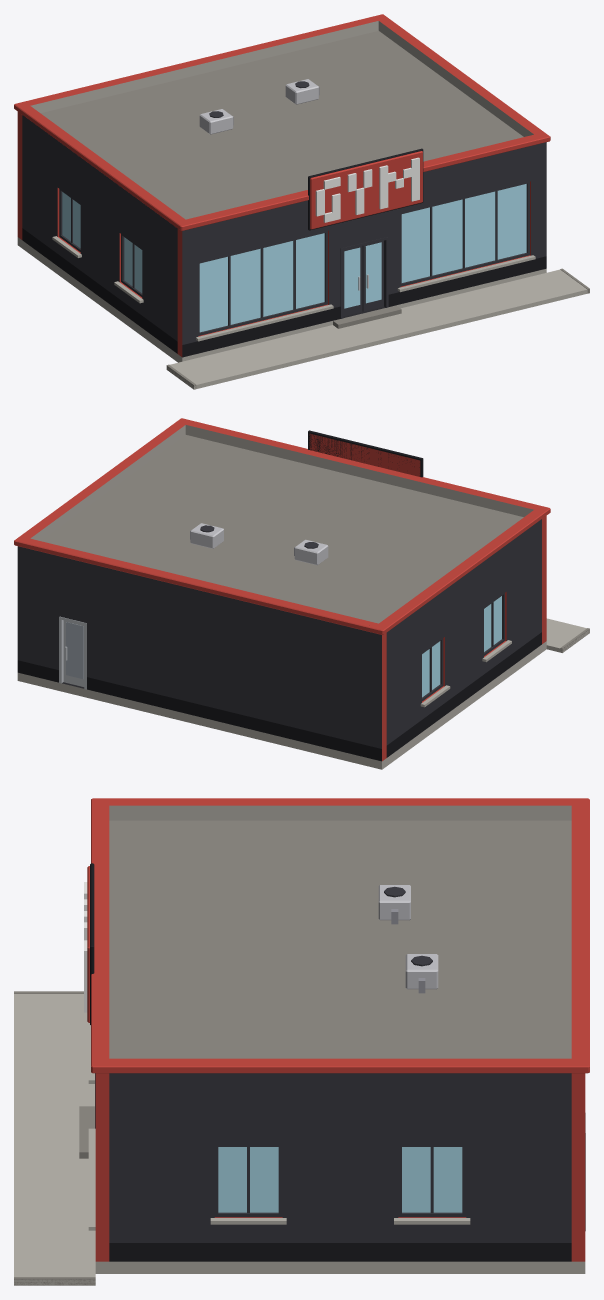
Rendered from Gym.fbx.
The picture shows the model from 3 angles, top to bottom: view 1: azimuth 30°, elevation 25°; view 2: azimuth 150°, elevation 25°; view 3: azimuth 270°, elevation 25°; orthographic projection. The views are drawn at different scales.
Parts seen in each view (by area): view 1: Gym, Gym_Roof, Gym_Glass, Gym_Sign, Gym_DoorR, Gym_DoorL; view 2: Gym, Gym_Roof, Gym_Sign, Gym_Glass, Gym_BackDoor; view 3: Gym, Gym_Roof, Gym_Glass, Gym_Sign.
Boxes of the visible parts, box(x1,y1,x2,y2) form: Gym: box(14, 14, 589, 389); Gym_Roof: box(41, 30, 523, 219); Gym_Glass: box(62, 184, 526, 332); Gym_Sign: box(308, 148, 423, 230); Gym_DoorR: box(362, 240, 383, 311); Gym_DoorL: box(343, 246, 362, 316); Gym: box(14, 418, 589, 769); Gym_Roof: box(41, 435, 523, 623); Gym_Sign: box(308, 430, 423, 477); Gym_Glass: box(422, 596, 501, 697); Gym_BackDoor: box(63, 620, 84, 686); Gym: box(14, 798, 589, 1285); Gym_Roof: box(109, 820, 571, 1058); Gym_Glass: box(218, 1147, 462, 1212); Gym_Sign: box(84, 863, 94, 1024).
Bounding box in the file's own units: 50 × 19.25 × 42.35.
1 material, 1 textured.
